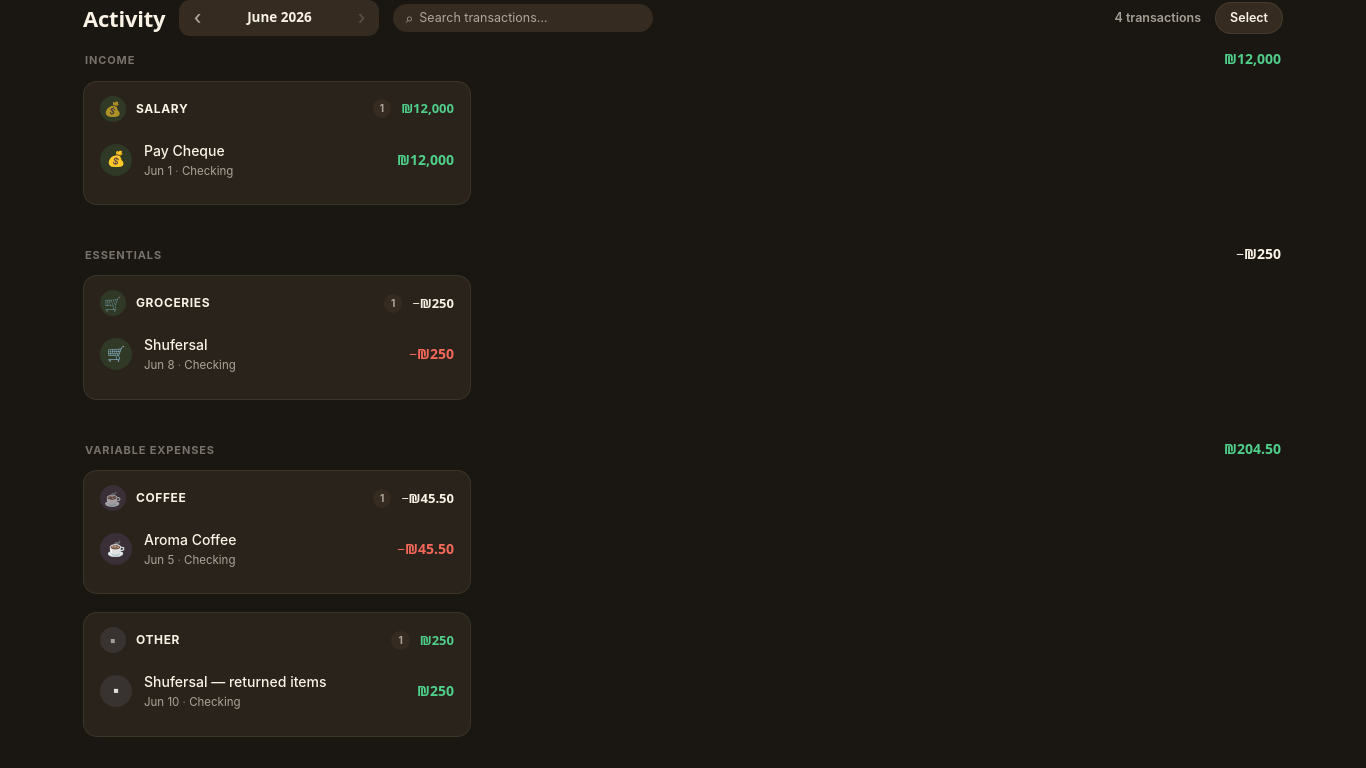
Scenario: ActivityView — refund linking › shows "+ Link a refund or reimbursement" in the sidebar (not a stub)
Click the text "Shufersal": (176, 345) [144, 336, 208, 353]
(page scrolled)
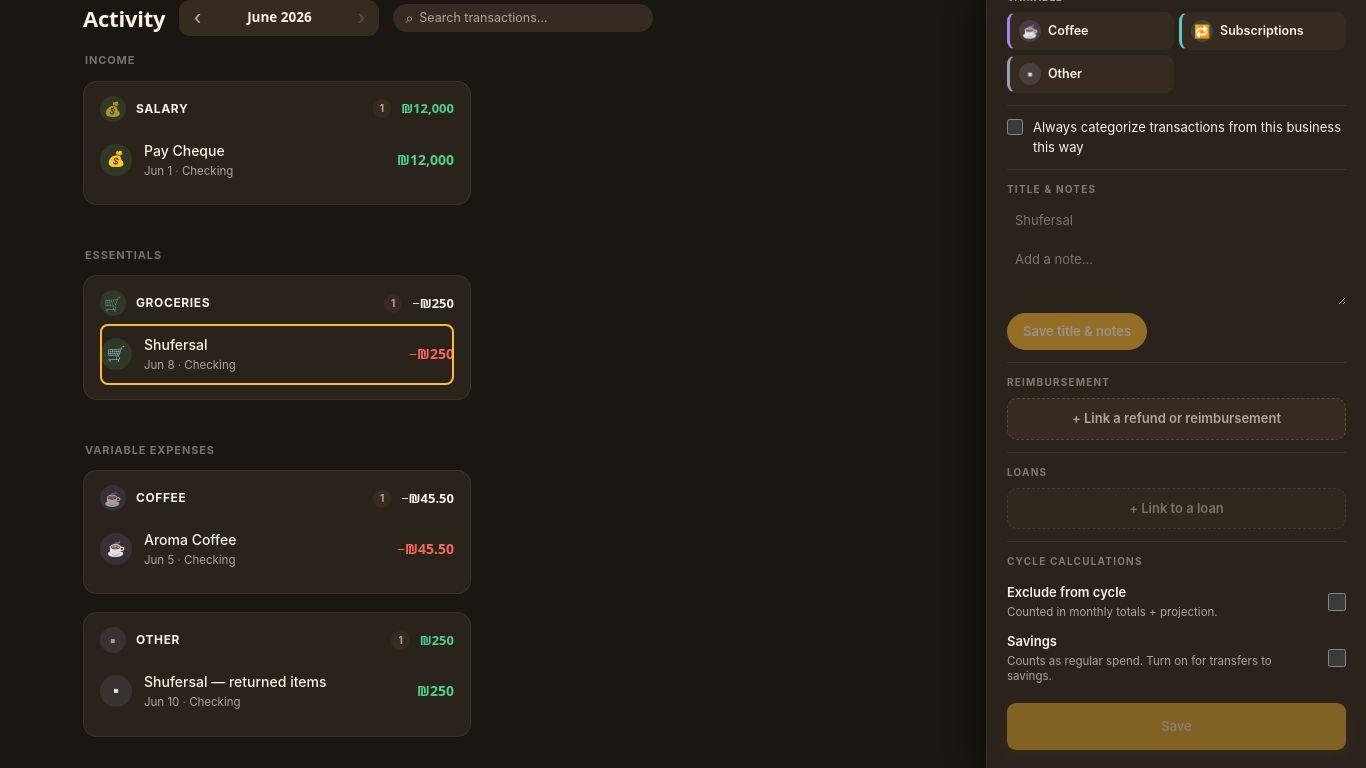
Check: the button "+ Link a refund or reimbursement" is enabled, box [1007, 398, 1346, 440]
